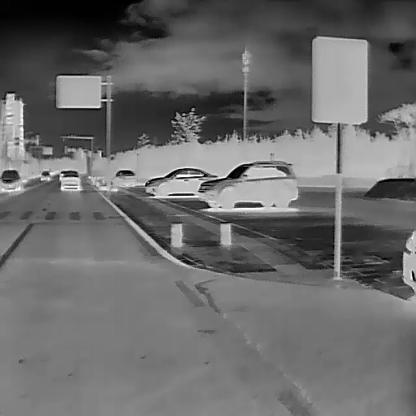car: (196, 158, 298, 209), (144, 166, 216, 196), (111, 168, 135, 188), (1, 167, 20, 191), (59, 171, 81, 190), (40, 170, 50, 180)
